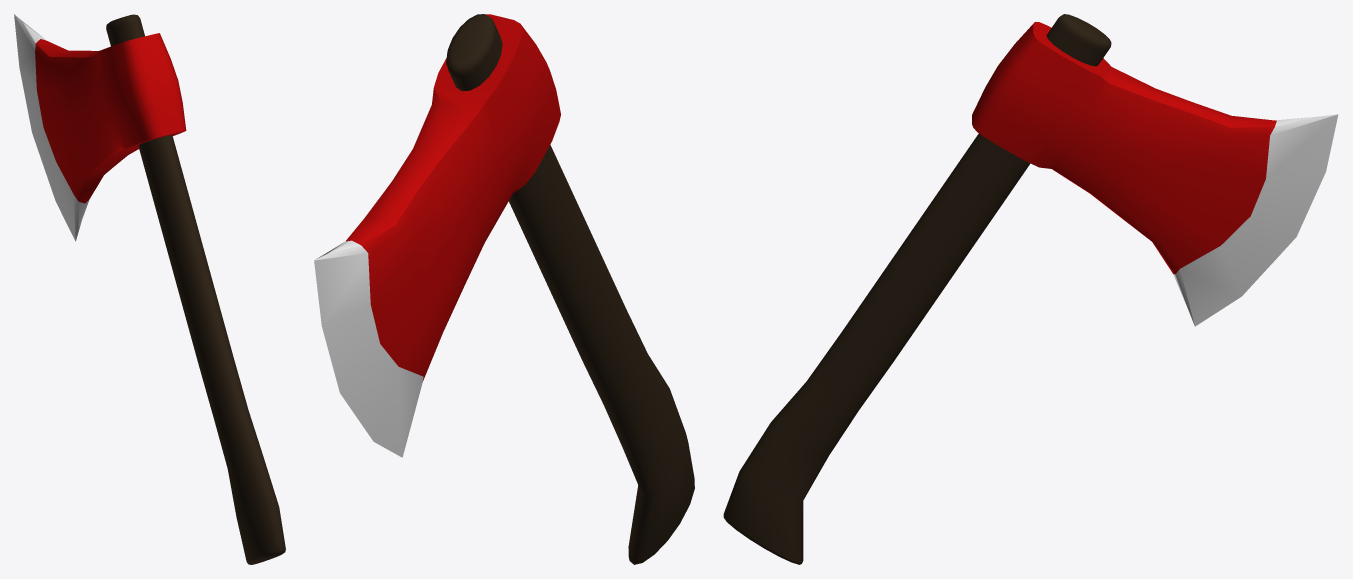
Rendered from topor.glb.
3 views of the same model, side by side, from view 1: azimuth 30°, elevation 25°; view 2: azimuth 150°, elevation 25°; view 3: azimuth 270°, elevation 25° (orthographic). The views are drawn at different scales.
Parts seen in each view (by area): view 1: Plane, Circle; view 2: Plane, Circle; view 3: Plane, Circle.
Boxes of the visible parts, left/top/right/bottom form: Plane: left=14, top=14, right=186, bottom=241; Circle: left=106, top=14, right=285, bottom=564; Plane: left=314, top=14, right=560, bottom=457; Circle: left=446, top=14, right=694, bottom=564; Plane: left=972, top=22, right=1338, bottom=326; Circle: left=723, top=14, right=1111, bottom=564.
Size of the model in its own units: 0.733 by 6.54 by 6.7.
